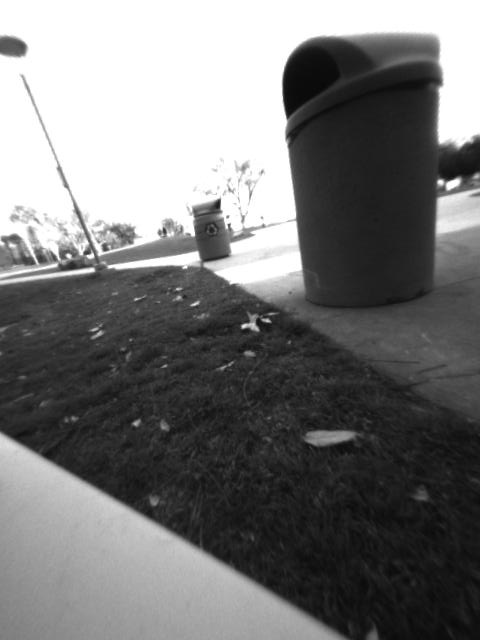trashcan: (279, 29, 445, 304)
